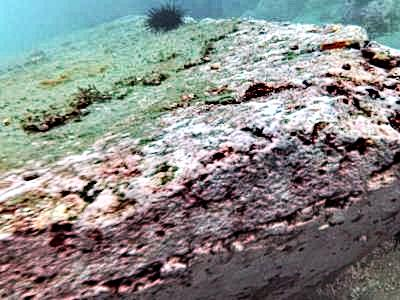urchin: (146, 5, 185, 29)
